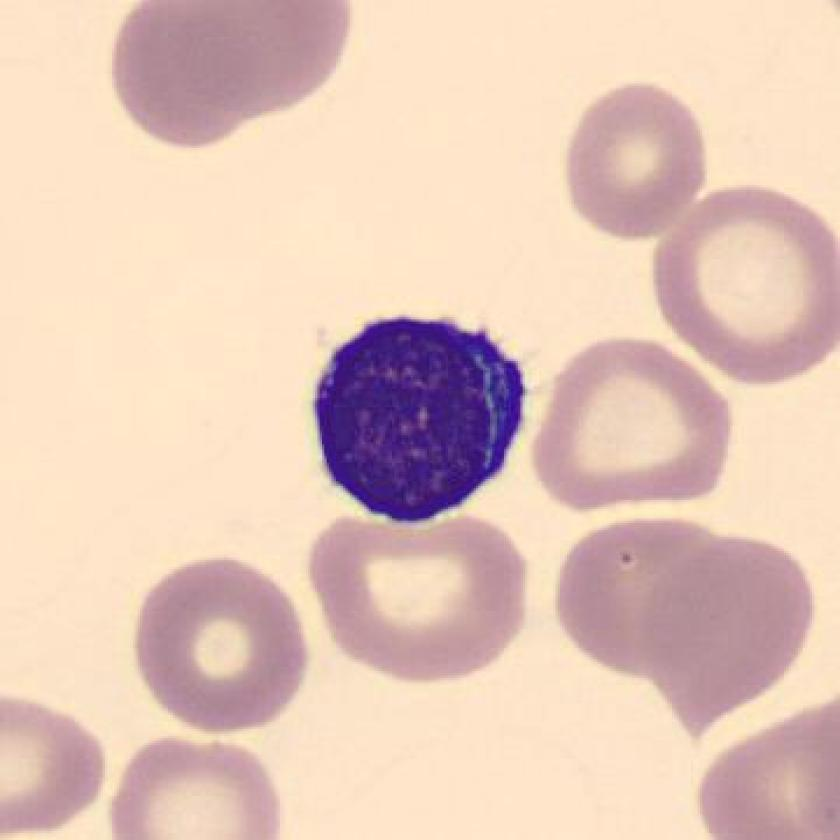lymphocyte: (288, 293, 552, 543)
